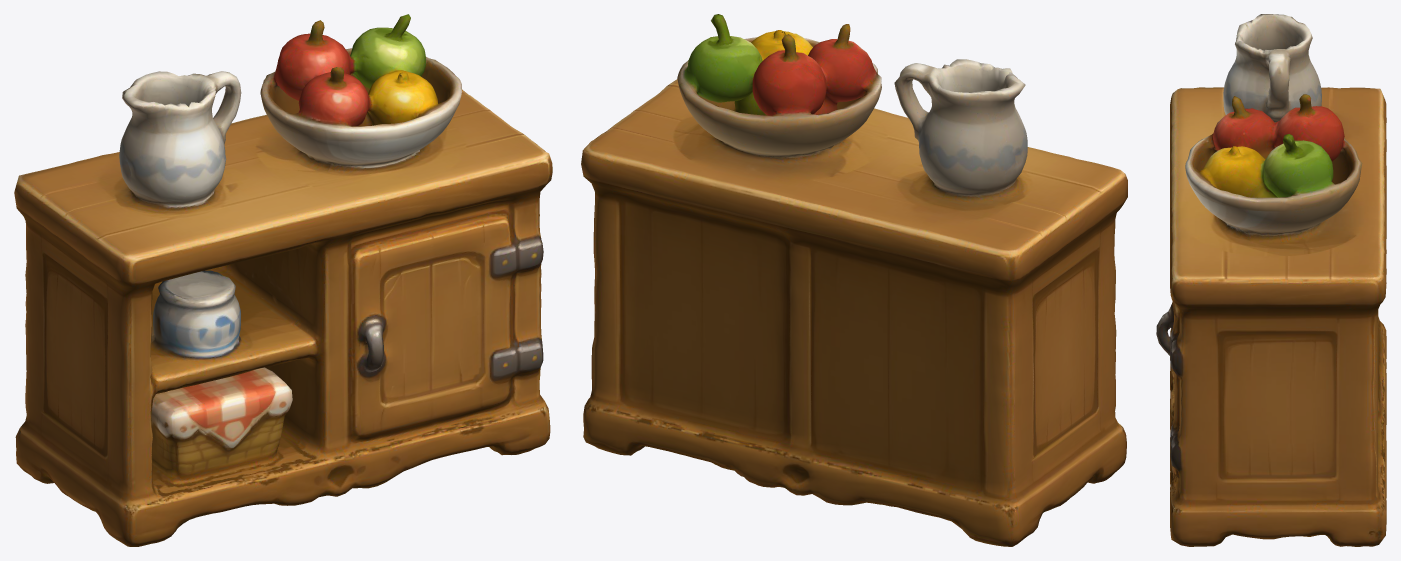
Rendered from Wood_Cabinet.glb.
3 renders of one model, left to right at view 1: azimuth 30°, elevation 25°; view 2: azimuth 150°, elevation 25°; view 3: azimuth 270°, elevation 25°, orthographic. The views are drawn at different scales.
Visible parts, largest first — view 1: RETOPO; view 2: RETOPO; view 3: RETOPO.
Boxes of the visible parts, <box> form: RETOPO: <box>14,14,552,546</box>; RETOPO: <box>581,14,1127,546</box>; RETOPO: <box>1156,14,1386,546</box>.
Size of the model in its own units: 0.8547 by 0.7833 by 0.4265.
1 material, 1 textured.
